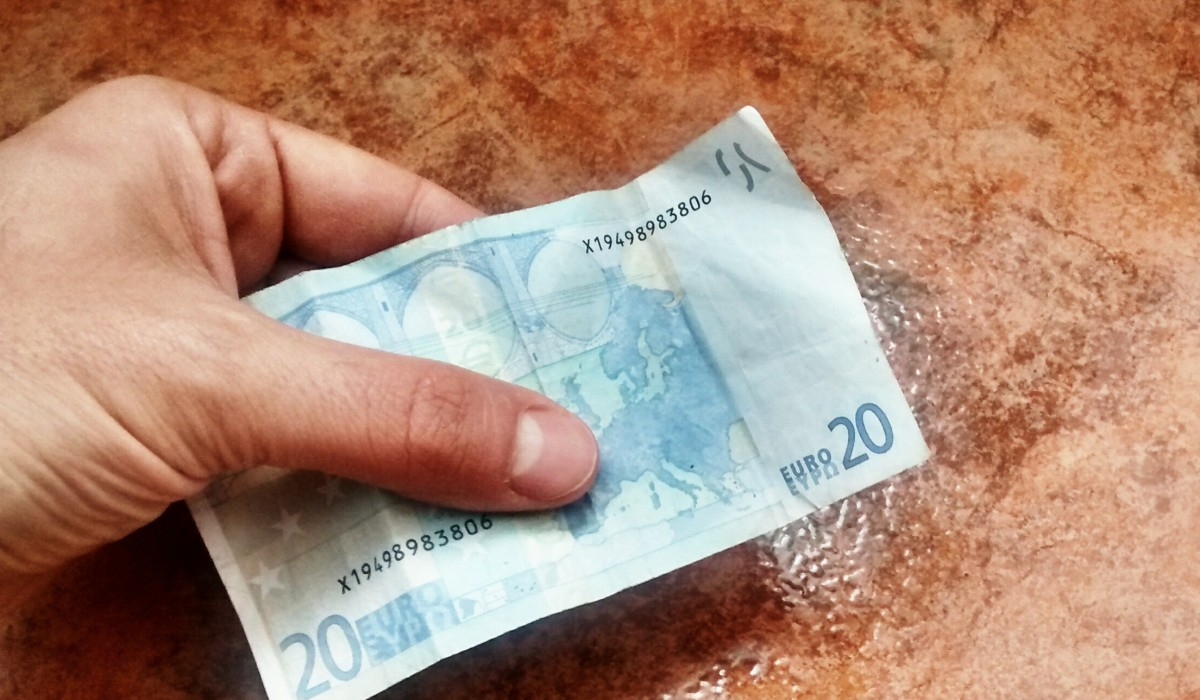billete: (179, 100, 937, 700)
